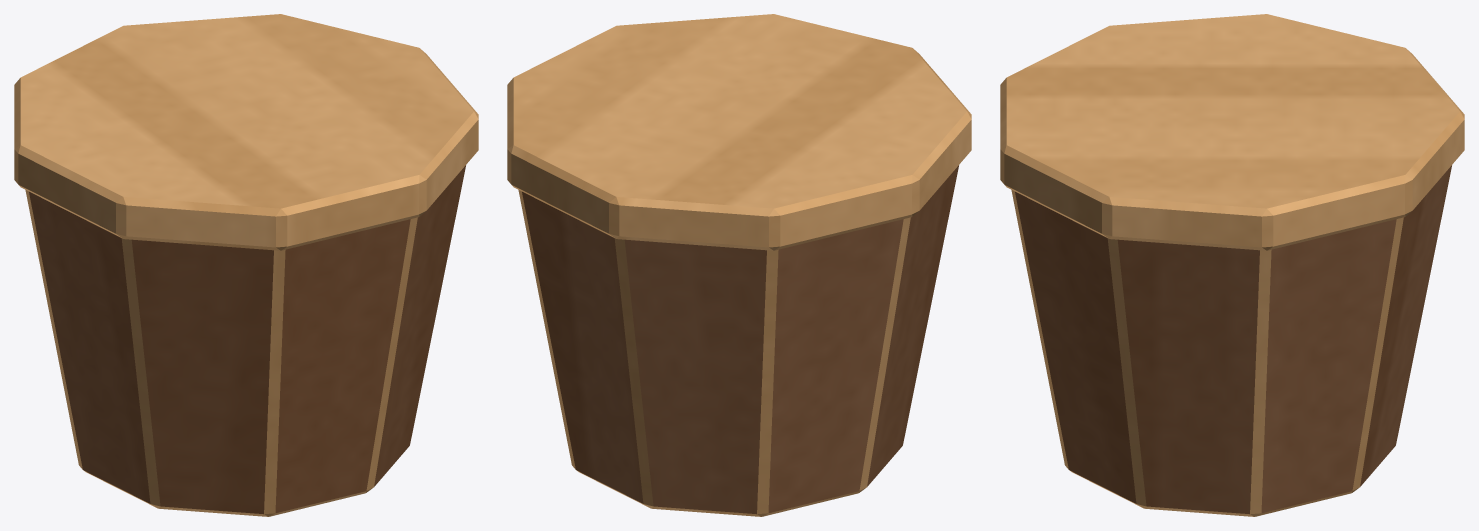
Rendered from sm_prop_basket.glb.
The picture shows the model from 3 angles, left to right: view 1: azimuth 30°, elevation 25°; view 2: azimuth 150°, elevation 25°; view 3: azimuth 270°, elevation 25°; orthographic projection.
Visible parts, largest first — view 1: sm_prop_basket; view 2: sm_prop_basket; view 3: sm_prop_basket.
Boxes of the visible parts, bbox=[...] form: sm_prop_basket: bbox=[14, 14, 478, 516]; sm_prop_basket: bbox=[507, 14, 971, 516]; sm_prop_basket: bbox=[1000, 14, 1464, 516].
Size of the model in its own units: 0.3039 by 0.24 by 0.2993.
1 material, 1 textured.
